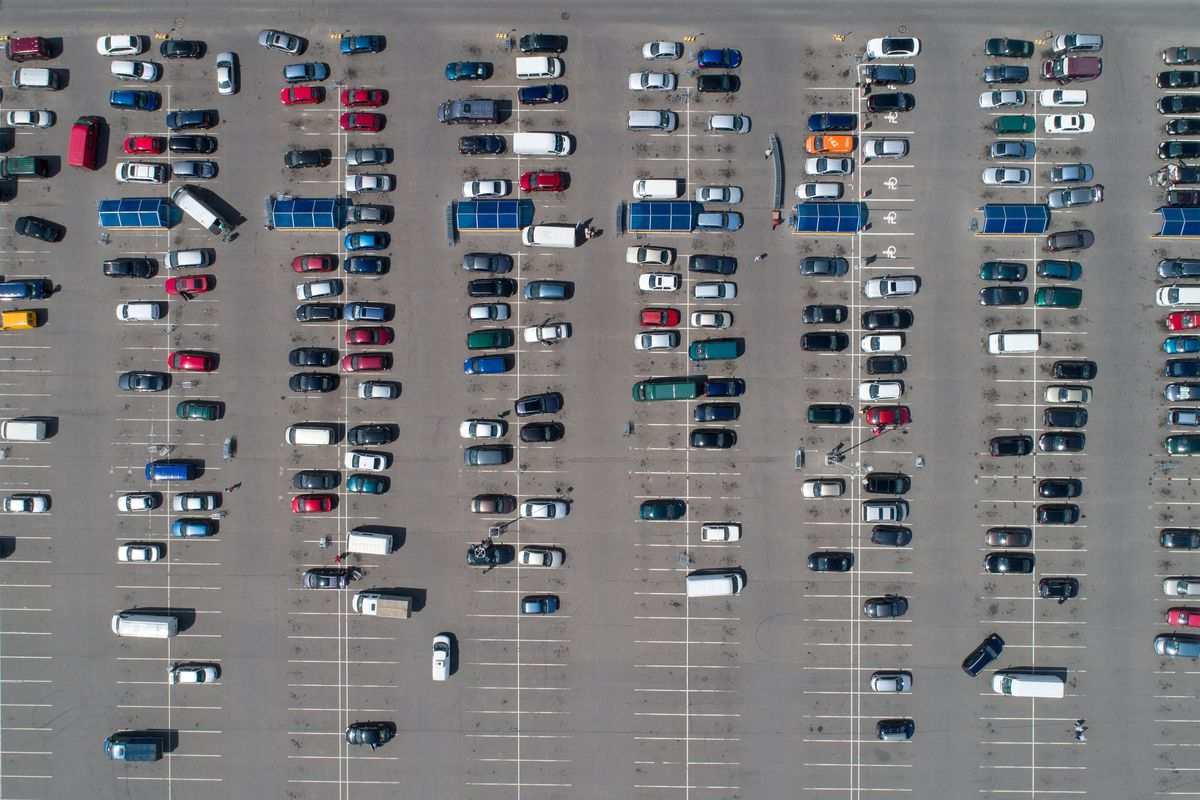empyt_space: (855, 194, 921, 239), (855, 230, 922, 273), (1, 624, 62, 669), (858, 161, 919, 203), (1, 577, 61, 619), (281, 389, 347, 426), (111, 271, 176, 308), (109, 627, 172, 664), (463, 658, 524, 696), (1, 340, 66, 375), (457, 467, 522, 502), (1, 604, 62, 641), (681, 757, 747, 791), (628, 131, 695, 164), (1, 366, 64, 401), (629, 637, 692, 672), (105, 228, 176, 259), (165, 725, 226, 761), (166, 583, 225, 620), (277, 658, 345, 690), (461, 705, 525, 739), (112, 654, 174, 689), (111, 558, 173, 593), (630, 589, 692, 624), (629, 564, 689, 600), (682, 711, 747, 744), (973, 496, 1038, 529), (853, 545, 920, 577), (167, 605, 230, 639), (112, 677, 173, 712), (798, 663, 857, 699), (629, 660, 693, 693), (1, 436, 55, 475), (285, 730, 345, 765), (163, 297, 228, 329), (682, 613, 745, 646), (856, 424, 917, 458), (115, 700, 171, 737), (286, 631, 342, 668), (1, 556, 60, 591), (115, 509, 174, 544), (465, 752, 522, 788), (465, 634, 522, 670), (464, 732, 528, 764), (977, 714, 1041, 746), (108, 391, 174, 422), (856, 619, 922, 650), (1, 676, 61, 710), (166, 633, 229, 665), (854, 642, 917, 674), (983, 303, 1039, 339), (628, 709, 693, 740), (680, 445, 745, 476), (1, 532, 54, 570), (460, 684, 524, 715), (462, 564, 524, 596), (513, 615, 577, 646), (854, 762, 916, 794), (1027, 764, 1093, 794), (1030, 644, 1090, 677), (1029, 449, 1089, 482), (164, 414, 216, 452), (1, 654, 59, 688), (160, 677, 228, 706), (284, 323, 342, 357), (515, 252, 578, 283), (854, 450, 917, 481), (977, 473, 1040, 504), (110, 585, 171, 617), (796, 714, 855, 747), (857, 569, 916, 602), (982, 352, 1039, 386), (801, 374, 856, 409), (630, 542, 692, 573), (1029, 738, 1091, 769), (111, 347, 175, 377), (683, 639, 743, 671), (686, 494, 746, 526), (108, 759, 179, 786), (460, 614, 526, 643), (517, 756, 575, 789), (516, 683, 574, 716), (631, 758, 692, 789), (800, 639, 854, 674), (284, 609, 343, 641), (463, 369, 522, 401), (633, 685, 692, 717), (974, 765, 1039, 794), (168, 750, 225, 783), (286, 678, 343, 711), (465, 589, 522, 622), (109, 107, 171, 137), (511, 466, 571, 497), (631, 735, 695, 764), (633, 469, 691, 501), (1, 699, 54, 734), (1, 746, 57, 779), (286, 583, 342, 616), (2, 770, 63, 800), (683, 543, 744, 573), (1029, 619, 1090, 649), (286, 751, 345, 782), (286, 229, 345, 260), (629, 518, 692, 547), (629, 423, 692, 452), (977, 596, 1040, 625), (1029, 523, 1092, 552), (167, 536, 224, 568), (514, 710, 579, 738), (514, 638, 579, 666), (346, 634, 401, 667), (166, 559, 226, 589), (1, 391, 59, 422), (164, 321, 222, 352), (634, 614, 692, 645), (854, 691, 916, 720), (1029, 595, 1093, 623), (111, 322, 172, 351), (684, 736, 745, 765), (1, 721, 53, 755), (803, 352, 855, 386), (801, 736, 853, 770), (803, 760, 855, 794), (114, 769, 171, 800), (1, 461, 56, 493), (286, 707, 344, 737), (343, 756, 403, 785), (342, 683, 400, 713), (342, 660, 402, 689), (799, 424, 857, 454), (795, 617, 855, 646), (980, 740, 1038, 770), (629, 446, 691, 474), (1, 511, 55, 543), (681, 688, 745, 715), (680, 471, 749, 496), (515, 660, 574, 689), (799, 85, 858, 114), (977, 571, 1036, 600), (1030, 546, 1089, 575), (166, 702, 223, 732), (798, 593, 855, 623), (981, 235, 1038, 265), (113, 416, 169, 446), (521, 733, 577, 763), (857, 739, 919, 766), (802, 567, 854, 599), (166, 373, 223, 402), (289, 514, 344, 544), (1149, 740, 1200, 772), (800, 520, 855, 549), (1, 248, 54, 278), (514, 347, 567, 377), (1149, 718, 1200, 749), (517, 107, 573, 135), (686, 155, 735, 187), (465, 398, 519, 427), (343, 776, 408, 800), (513, 569, 573, 595), (1148, 767, 1200, 797), (469, 153, 519, 184), (684, 665, 746, 690), (802, 278, 852, 309), (513, 515, 568, 543), (286, 443, 337, 473), (343, 397, 394, 427), (986, 379, 1037, 409), (517, 298, 569, 327), (1156, 476, 1200, 510), (989, 402, 1037, 433), (803, 691, 854, 720), (1149, 696, 1200, 725), (1151, 499, 1200, 529), (982, 183, 1038, 209), (343, 490, 389, 521), (1153, 546, 1200, 576), (804, 499, 854, 527), (298, 539, 343, 570), (1152, 451, 1200, 480), (161, 777, 221, 800), (519, 204, 579, 227), (1036, 332, 1087, 359), (685, 133, 737, 159), (804, 233, 854, 260), (634, 159, 692, 182), (1154, 670, 1200, 699), (516, 450, 573, 473), (1034, 308, 1086, 333), (287, 777, 343, 800), (1033, 138, 1083, 163), (467, 779, 526, 800), (518, 778, 574, 800), (301, 107, 340, 137), (342, 277, 392, 300), (290, 179, 339, 202), (342, 565, 387, 590), (632, 782, 692, 799), (684, 783, 744, 800), (978, 784, 1036, 800), (804, 783, 858, 800), (859, 783, 913, 800), (1029, 789, 1092, 799)
